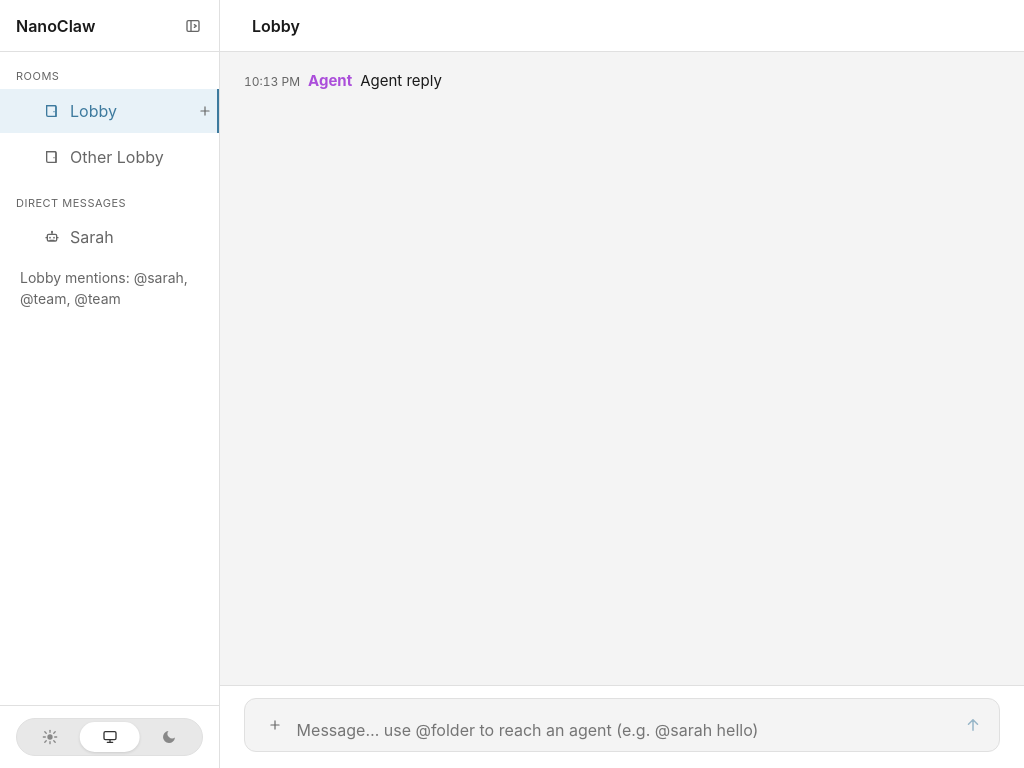
Scenario: App › reconciles the optimistic message id when history already contains messages
Expected: the text "Agent reply" is shown, left=360, top=71, right=442, bottom=90
Type "hello world" into the text box with placeholder "Message… use @folder to reach an agent (e.g. @sarah hello)" at (624, 730), box left=297, top=719, right=951, bottom=741
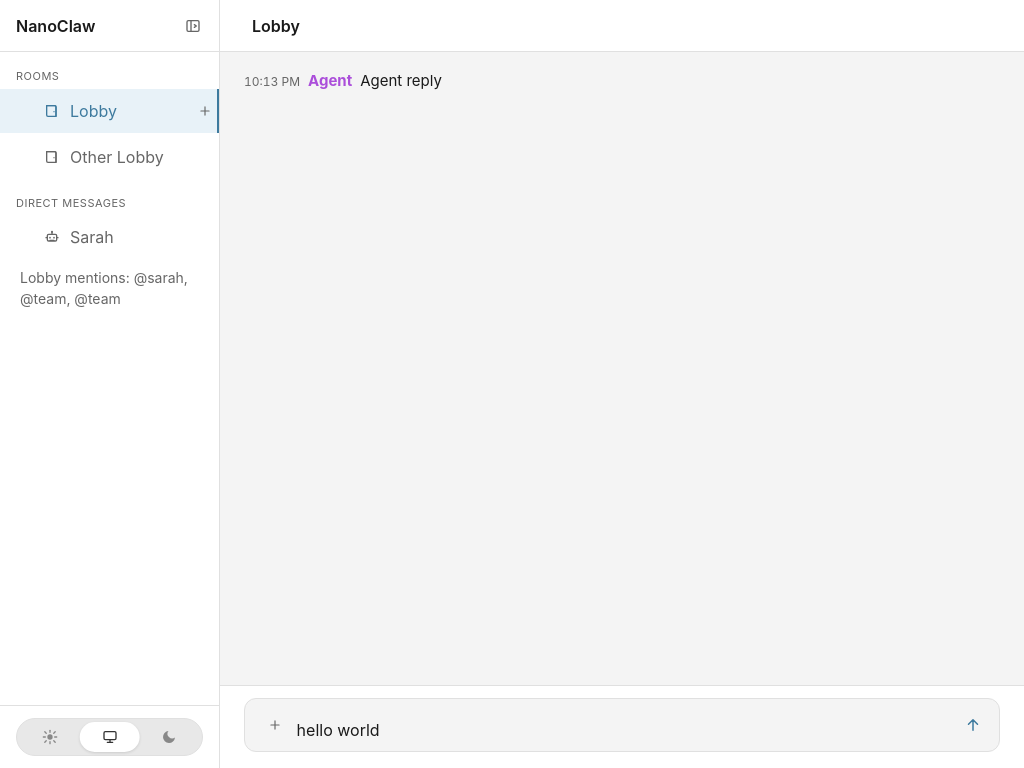
Click the button named "Send message" at (973, 725), box left=957, top=709, right=989, bottom=741
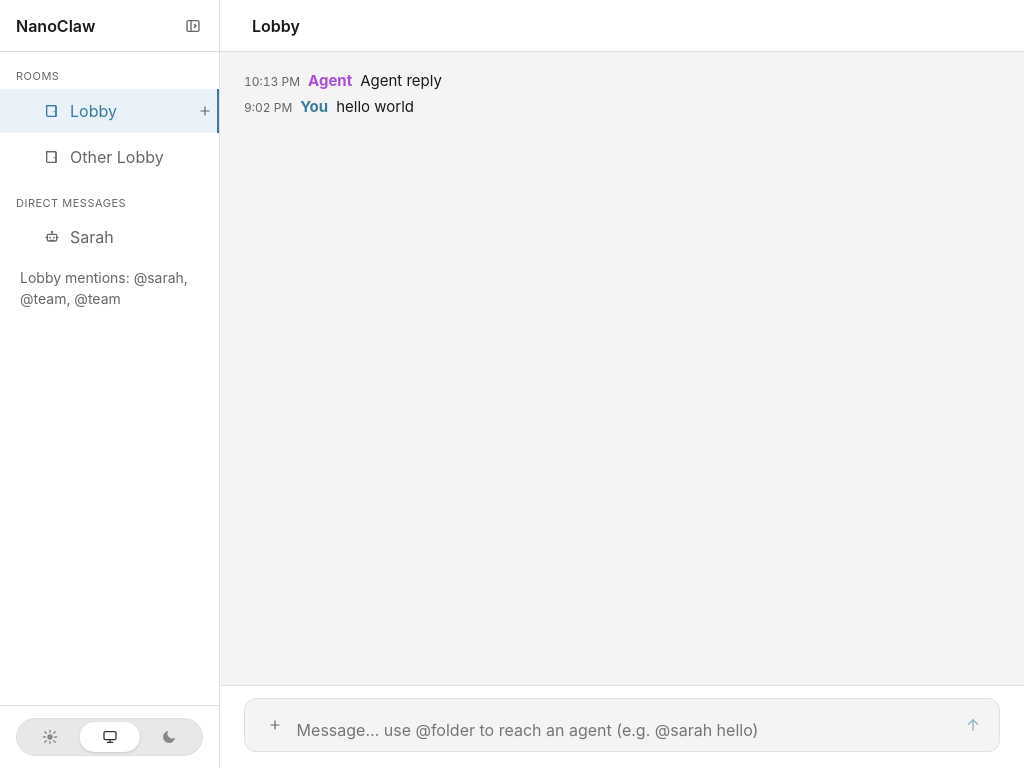
Expected: the text "Agent reply" is shown, left=360, top=71, right=442, bottom=90
Expected: the text "hello world" is shown once, left=336, top=97, right=414, bottom=116
